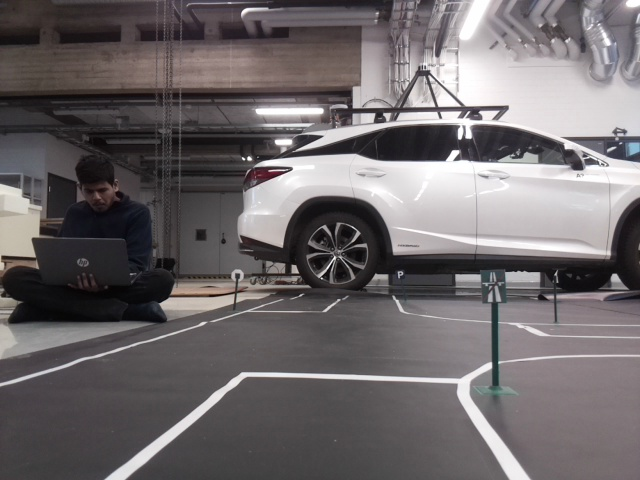HighwayExit: (480, 270, 504, 302)
Parking: (396, 270, 403, 278)
